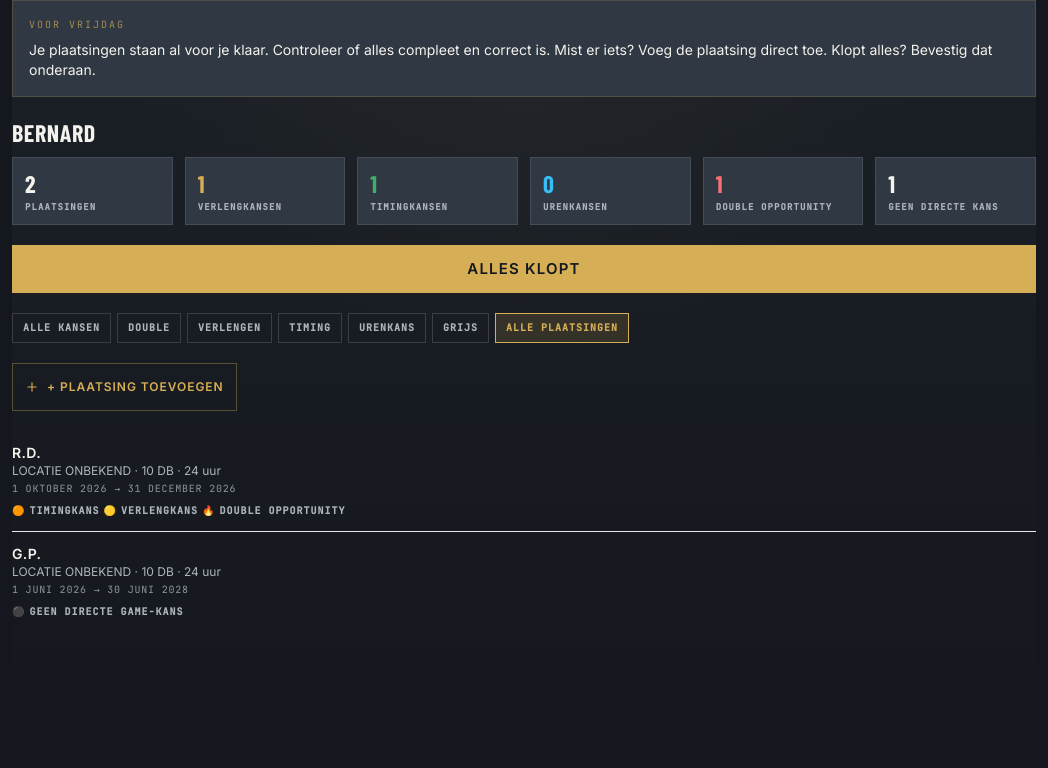
MyPlacementsView › the filter bar narrows the visible placements without touching the stat counts
Expected: the text "R.D." is shown, 12,444 -> 41,461
Expected: the text "G.P." is shown, 12,545 -> 41,562
Click the button "DOUBLE".
click(149, 328)  # box 117,313 -> 181,343
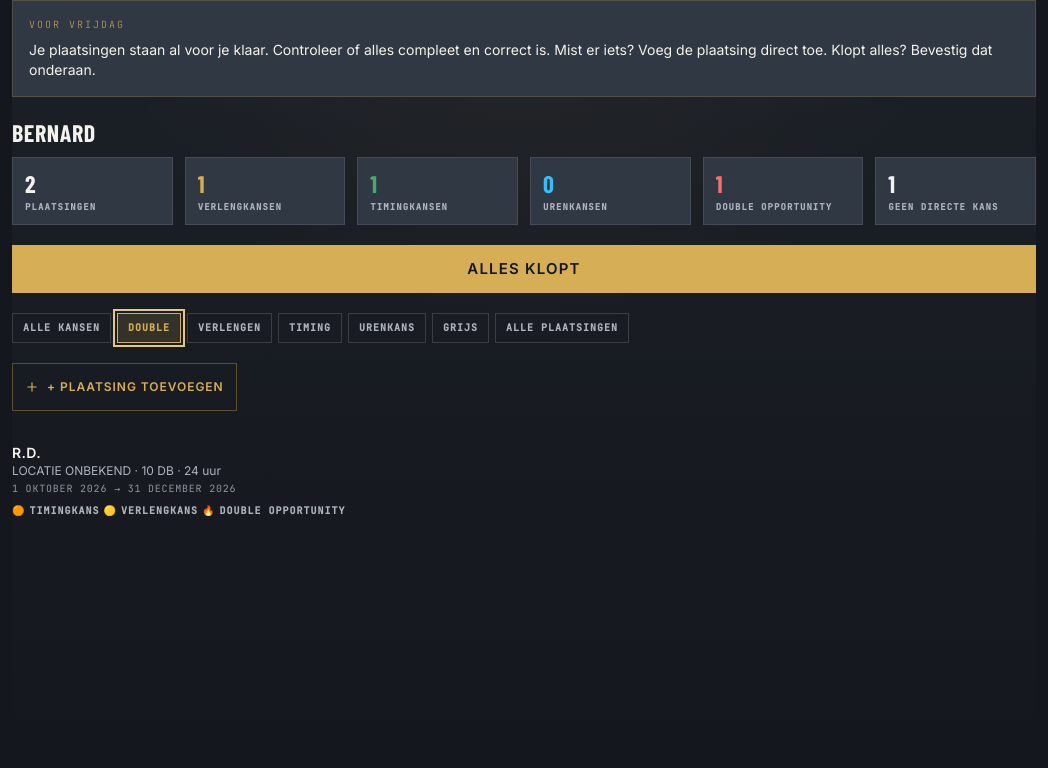
Expected: the text "R.D." is shown, 12,444 -> 41,461
Result: the button "G.P." is gone
